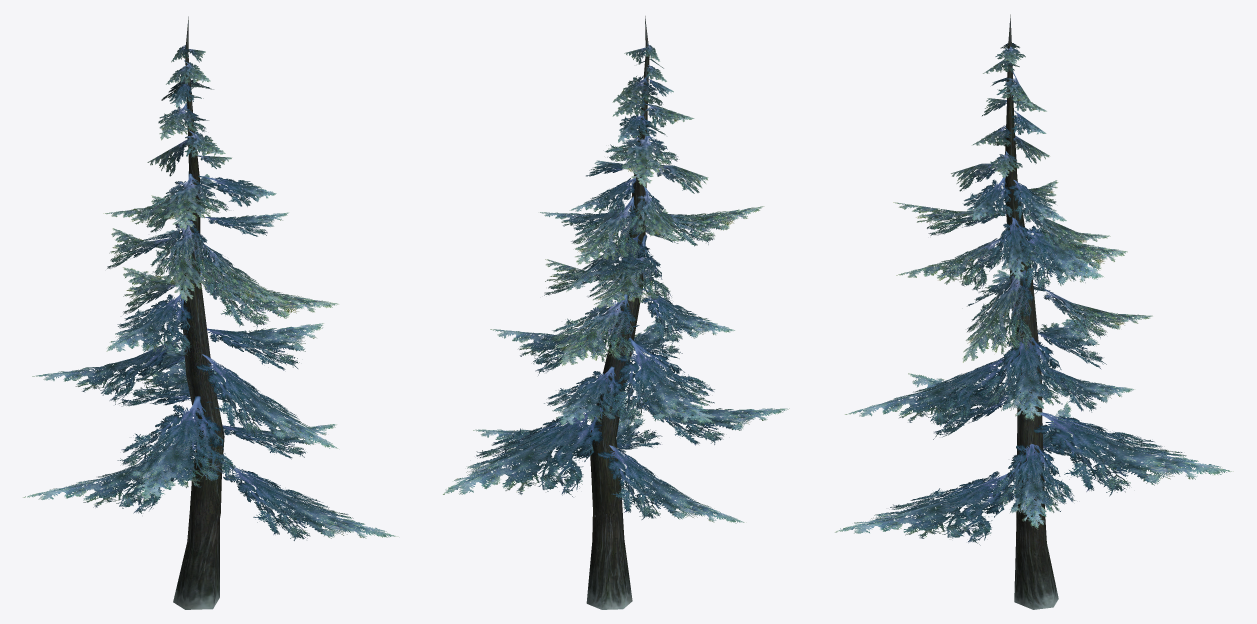
The model's file is yw_xuesebingfeng_xuesong01.FBX.
3 renders of one model, left to right at view 1: azimuth 30°, elevation 25°; view 2: azimuth 150°, elevation 25°; view 3: azimuth 270°, elevation 25°, orthographic. The views are drawn at different scales.
Visible parts, largest first — view 1: yw_xuesebingfeng_xuesong01; view 2: yw_xuesebingfeng_xuesong01; view 3: yw_xuesebingfeng_xuesong01.
Boxes of the visible parts, x1,y1,x2,y2 form: yw_xuesebingfeng_xuesong01: (23, 16, 397, 609); yw_xuesebingfeng_xuesong01: (443, 16, 789, 609); yw_xuesebingfeng_xuesong01: (835, 14, 1233, 609).
Size of the model in its own units: 1020 by 1876 by 1230.
